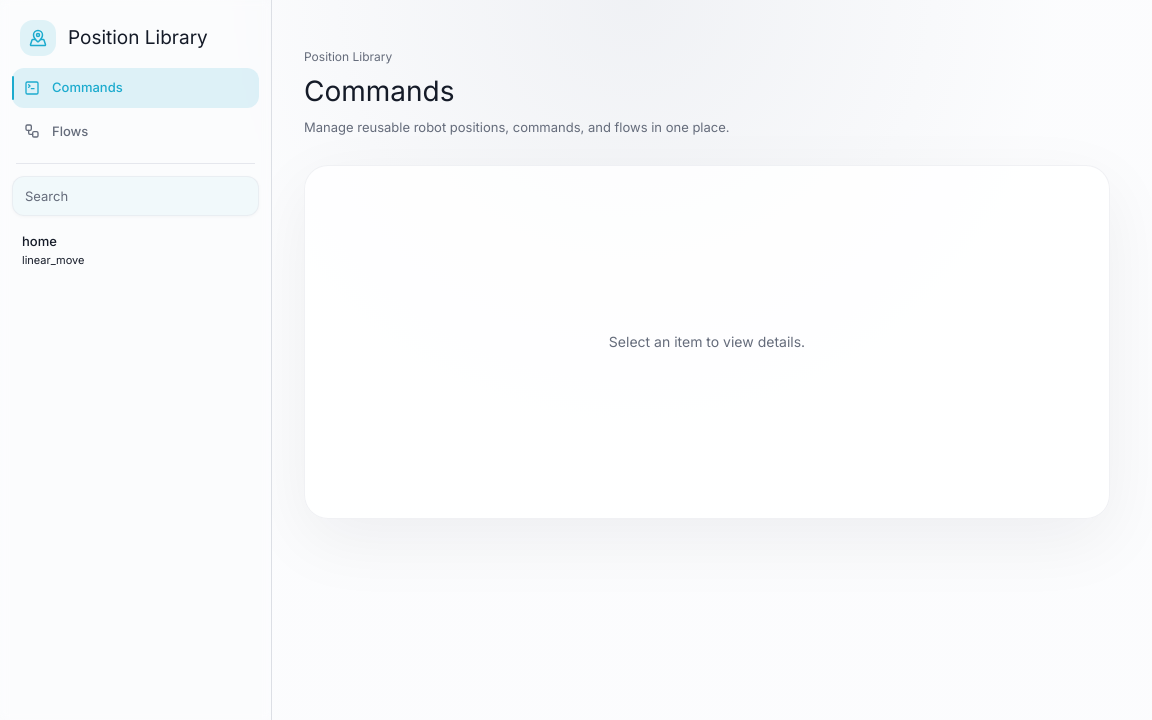
Test: CommandLibraryPage › renders the commands tab with list items and switches to flows
The width and height of the screenshot is (1152, 720).
Expected: the button "home linear_move" is shown, [12, 224, 259, 276]
Expected: the element showing "Position Library Commands Flows home linear_move" is shown, [0, 0, 272, 719]
Click the button "Flows": [136, 131] box [12, 112, 259, 151]
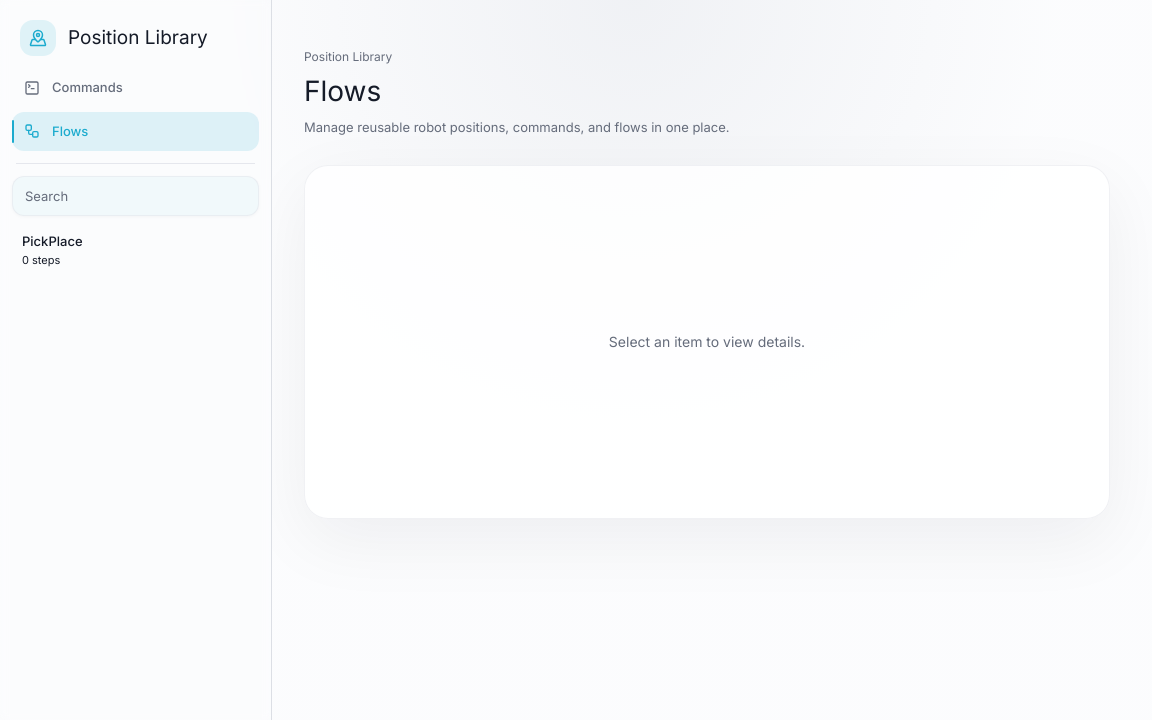
Now the button "PickPlace 0 steps" is shown, box [12, 224, 259, 276]
